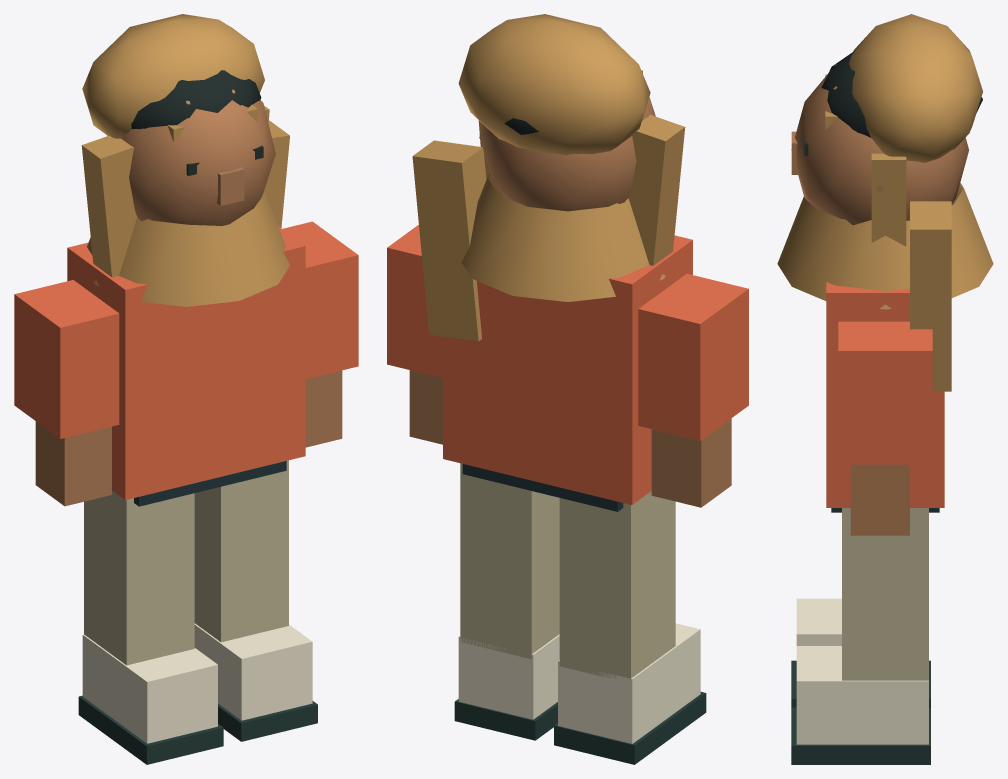
Rendered from male-tudung-shawl.glb.
3 renders of one model, left to right at view 1: azimuth 30°, elevation 25°; view 2: azimuth 150°, elevation 25°; view 3: azimuth 270°, elevation 25°, orthographic. The views are drawn at different scales.
Visible parts, largest first — view 1: male-tudung-shawl, avatar-tudung, tudung-neck-wrap; view 2: male-tudung-shawl, avatar-tudung, tudung-neck-wrap; view 3: male-tudung-shawl, avatar-tudung, tudung-neck-wrap.
Boxes of the visible parts, x1,y1,x2,y2 form: male-tudung-shawl: [14, 70, 358, 764]; avatar-tudung: [81, 14, 289, 277]; tudung-neck-wrap: [87, 191, 290, 306]; male-tudung-shawl: [387, 97, 748, 764]; avatar-tudung: [412, 14, 685, 341]; tudung-neck-wrap: [461, 172, 665, 301]; male-tudung-shawl: [791, 51, 982, 764]; avatar-tudung: [825, 14, 982, 391]; tudung-neck-wrap: [777, 183, 993, 309].
Bounding box in the file's own units: 1.01 × 2.2 × 0.62.
